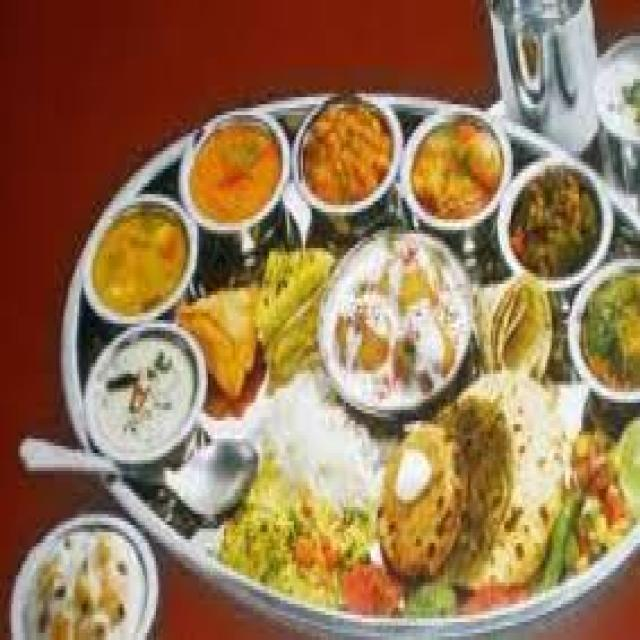curd: (82, 318, 201, 468)
dal: (291, 93, 401, 217)
raita: (594, 48, 640, 150)
rice: (243, 389, 376, 579)
roti: (394, 363, 577, 599)
sambar-rasam: (91, 191, 200, 325)
veg-fry: (181, 106, 290, 242)
